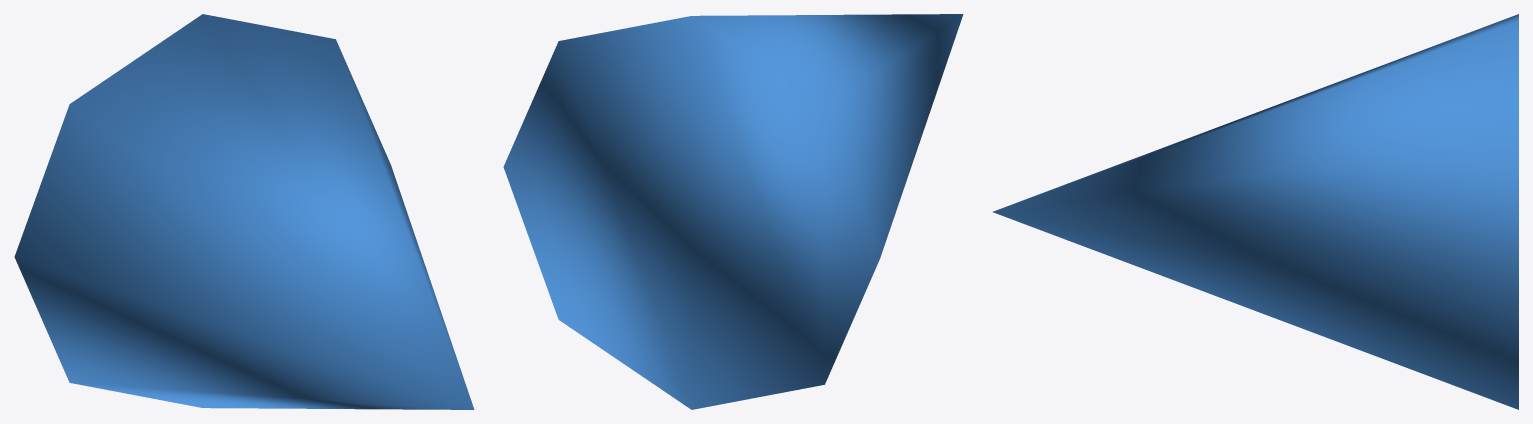
Rendered from expected.gltf.
3 renders of one model, left to right at view 1: azimuth 30°, elevation 25°; view 2: azimuth 150°, elevation 25°; view 3: azimuth 270°, elevation 25°, orthographic. The views are drawn at different scales.
Size of the model in its own units: 24 by 24 by 30.
